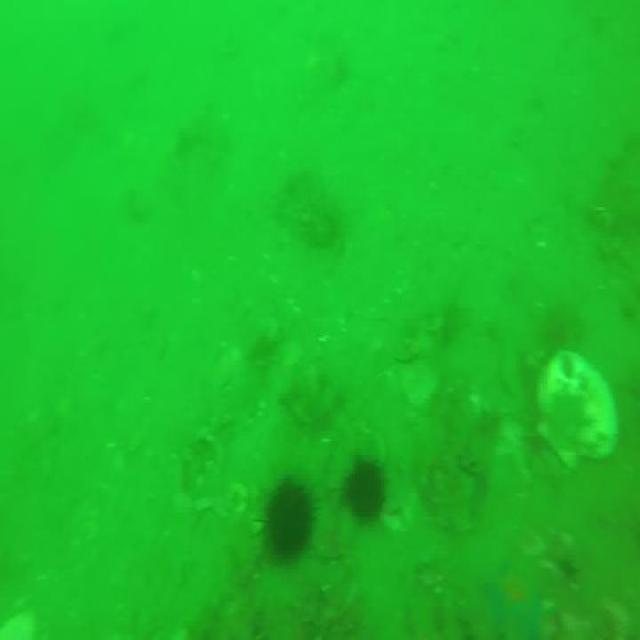echinus: (252, 487, 320, 575), (345, 463, 383, 528)
scallop: (532, 354, 620, 466)
